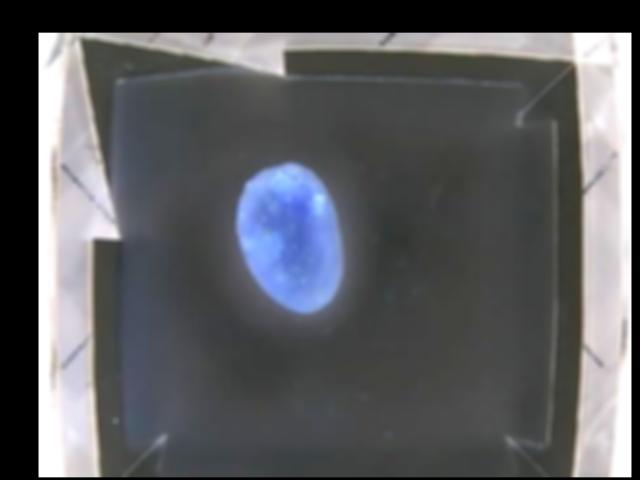Potato: (235, 163, 340, 315)
